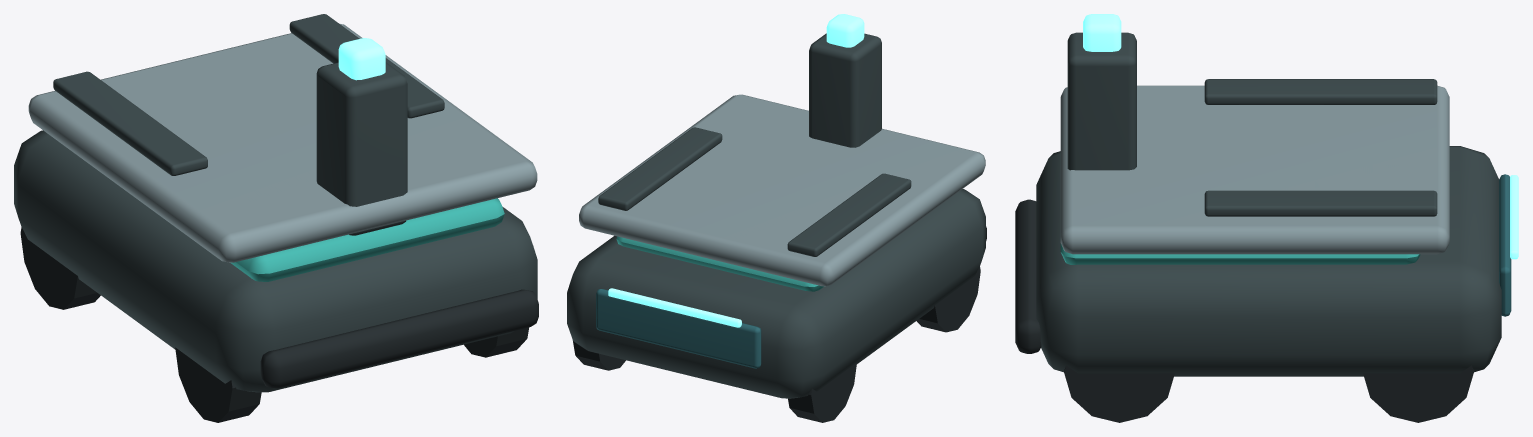
The model's file is pallet-amr.glb.
The picture shows the model from 3 angles, left to right: view 1: azimuth 30°, elevation 25°; view 2: azimuth 150°, elevation 25°; view 3: azimuth 270°, elevation 25°; orthographic projection. The views are drawn at different scales.
Parts seen in each view (by area): view 1: pallet deck, low chassis, lift tower, rear bumper, top cover, fork guide, drive wheel, fork guide.001, drive wheel.001, warning beacon, drive wheel.002; view 2: pallet deck, low chassis, lift tower, front LIDAR glass, fork guide, fork guide.001, drive wheel.001, top cover, drive wheel, front LED bar, warning beacon, drive wheel.003; view 3: low chassis, pallet deck, lift tower, fork guide.001, fork guide, drive wheel.002, drive wheel.003, top cover, rear bumper, front LIDAR glass, warning beacon, front LED bar.
Boxes of the visible parts, x1,y1,x2,y2 form: pallet deck: [28, 23, 537, 262]; low chassis: [14, 130, 537, 392]; lift tower: [316, 62, 407, 235]; rear bumper: [260, 289, 538, 388]; top cover: [230, 198, 504, 281]; fork guide: [53, 71, 207, 175]; drive wheel: [175, 347, 261, 422]; fork guide.001: [289, 14, 444, 118]; drive wheel.001: [20, 227, 100, 309]; warning beacon: [338, 38, 385, 80]; drive wheel.002: [464, 327, 529, 357]; pallet deck: [579, 94, 985, 286]; low chassis: [567, 189, 985, 398]; lift tower: [809, 33, 881, 147]; front LIDAR glass: [596, 289, 761, 368]; fork guide: [787, 173, 911, 256]; fork guide.001: [598, 127, 722, 210]; drive wheel.001: [788, 362, 856, 422]; top cover: [616, 236, 823, 291]; drive wheel: [916, 266, 980, 332]; front LED bar: [608, 288, 741, 327]; warning beacon: [826, 14, 864, 47]; drive wheel.003: [573, 341, 625, 370]; low chassis: [1036, 146, 1501, 376]; pallet deck: [1060, 85, 1449, 254]; lift tower: [1067, 32, 1136, 170]; fork guide.001: [1204, 190, 1437, 216]; fork guide: [1204, 79, 1437, 104]; drive wheel.002: [1064, 365, 1174, 422]; drive wheel.003: [1363, 365, 1473, 422]; top cover: [1060, 243, 1420, 264]; rear bumper: [1015, 199, 1041, 353]; front LIDAR glass: [1499, 174, 1511, 316]; warning beacon: [1083, 14, 1121, 51]; front LED bar: [1510, 175, 1518, 259].
Size of the model in its own units: 1.02 by 1.06 by 1.45.
